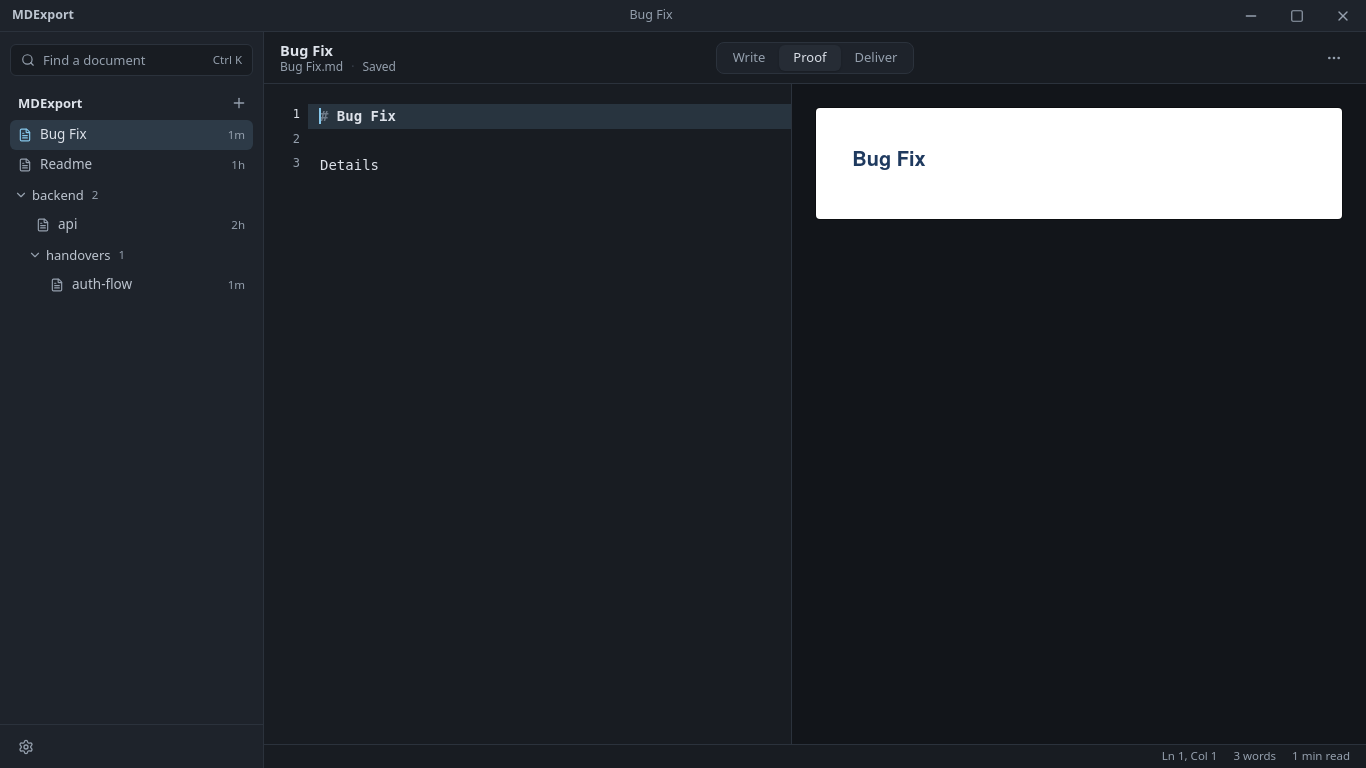
it: Export › Deliver offers PDF, Word and HTML, with PDF picked
What coordinates should you click on to do the following:
click the tab "Deliver"
I would click on:
 (876, 58)
Its box is top-left (840, 44), bottom-right (911, 70).
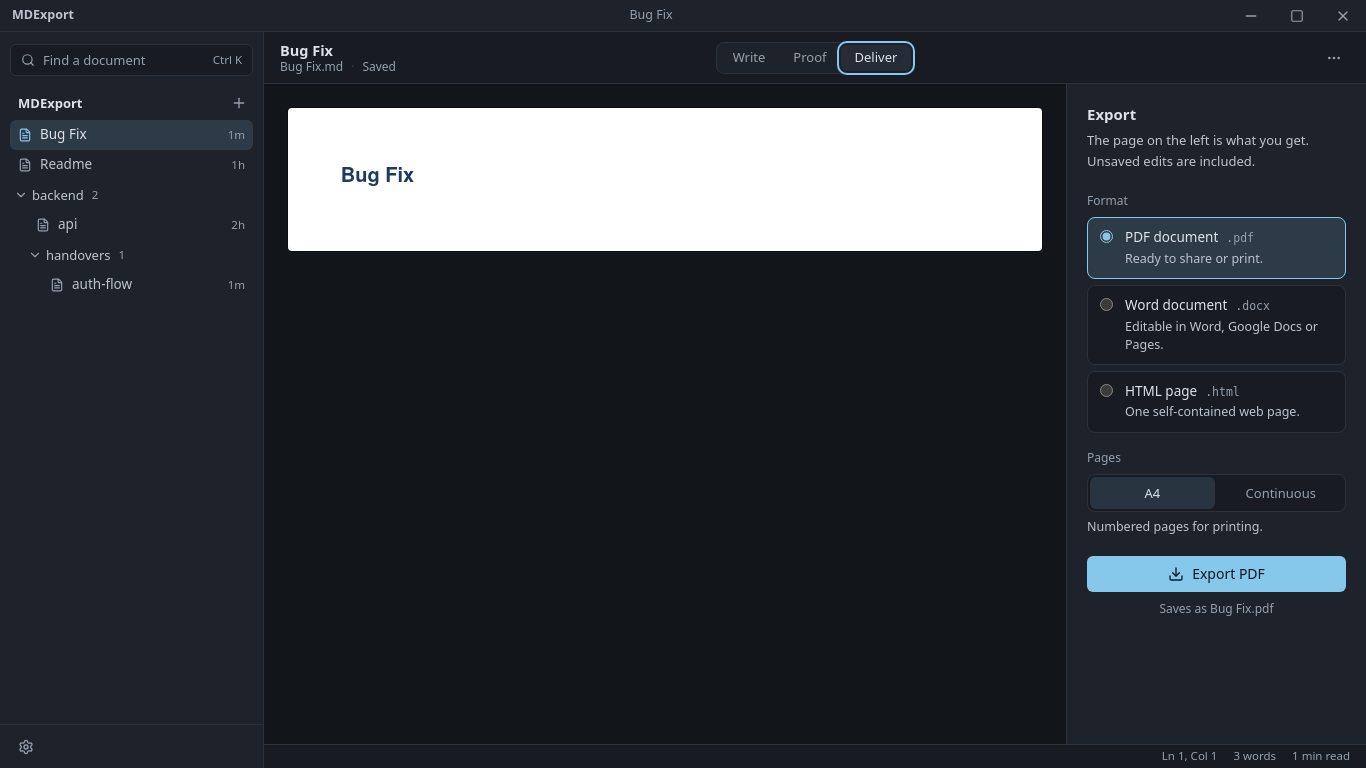
Check: the radio button labelled "PDF document .pdf Ready to share or print." is checked, box top-left (1100, 230), bottom-right (1113, 243)
Check: the button "Export PDF" is enabled, box top-left (1087, 556), bottom-right (1346, 592)
